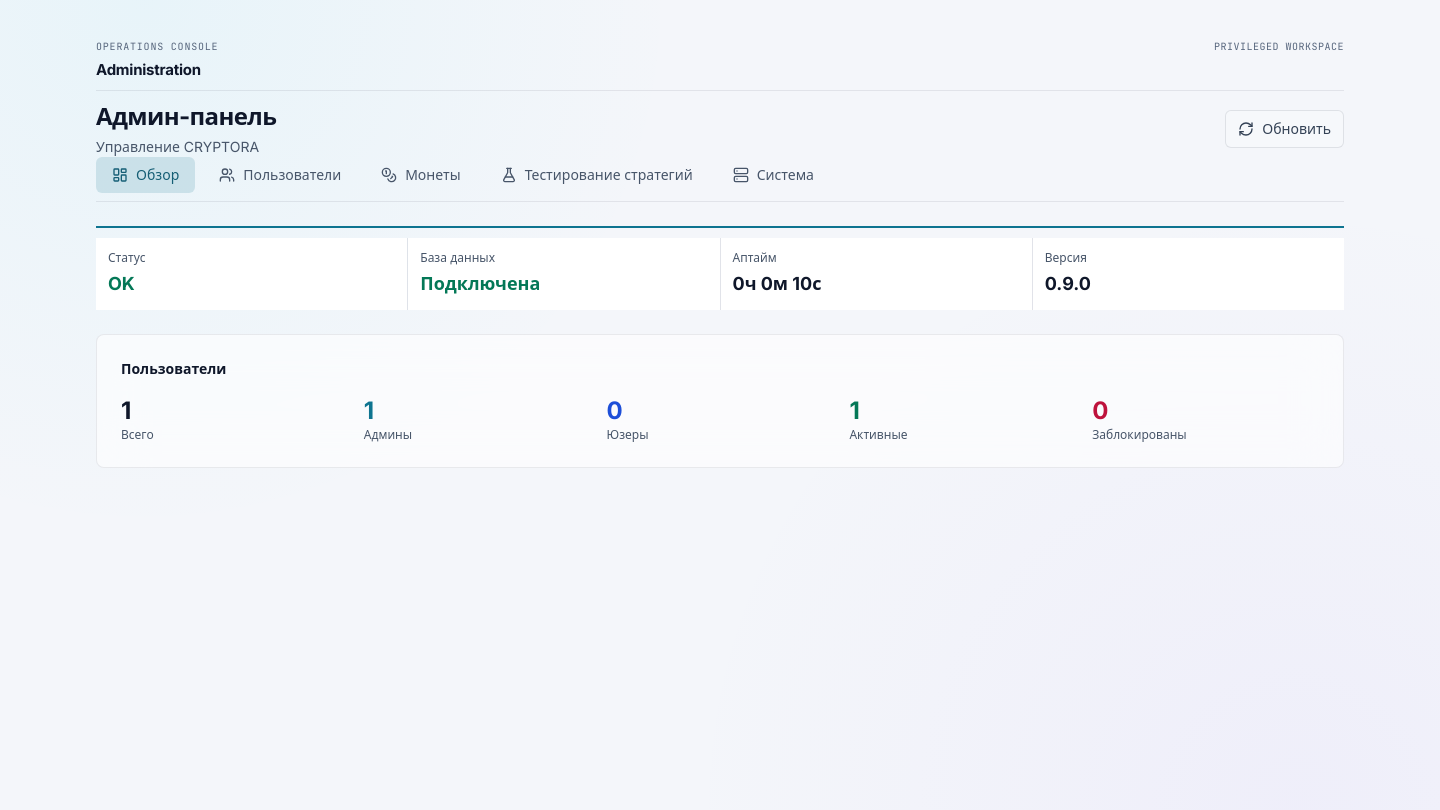
Scenario: AdminPage › показывает выключенную регистрацию по-русски
The image size is (1440, 810).
Click the button "Система": (773, 175) x1=717 y1=157 x2=830 y2=193
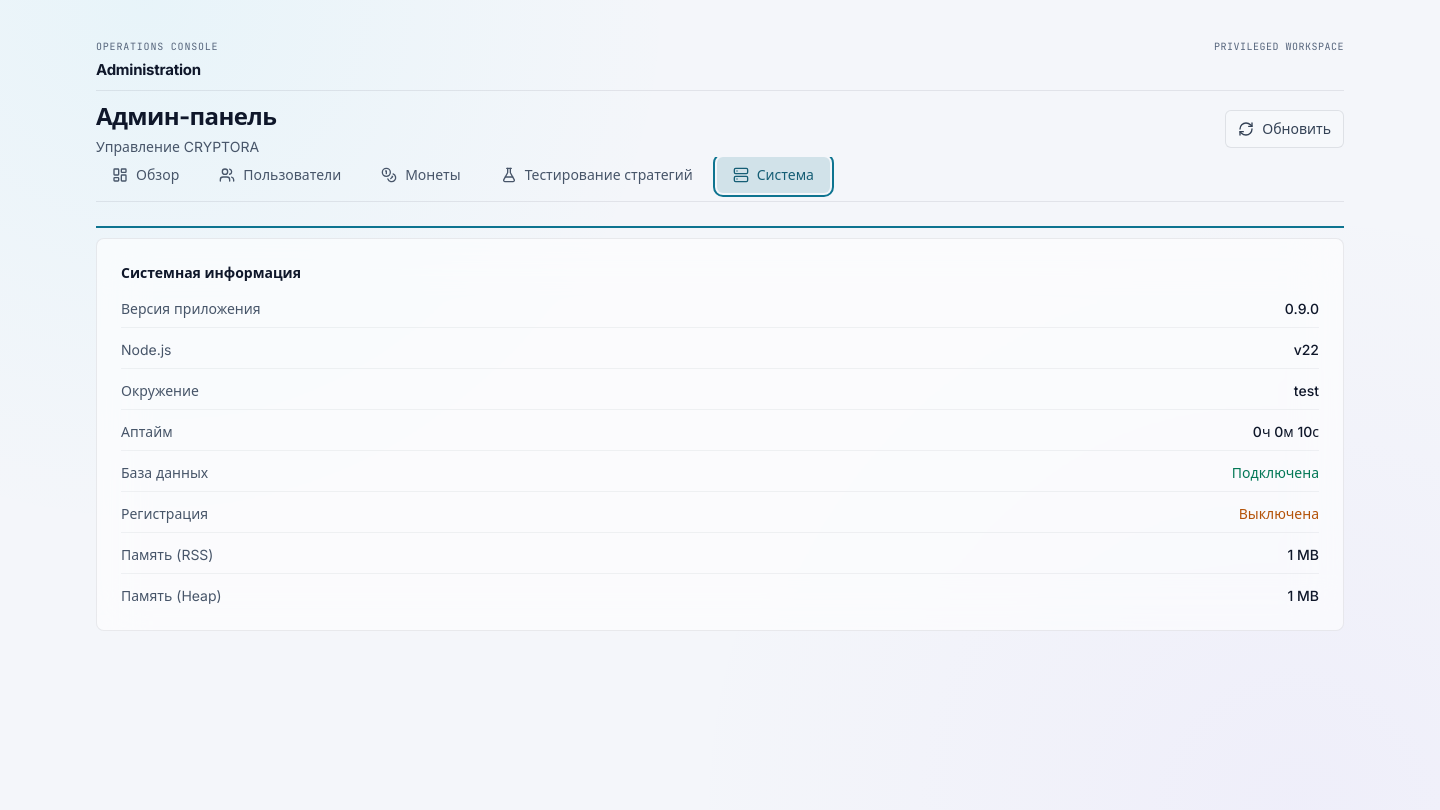
Now the text "Выключена" is shown, box x1=1239 y1=504 x2=1319 y2=524
